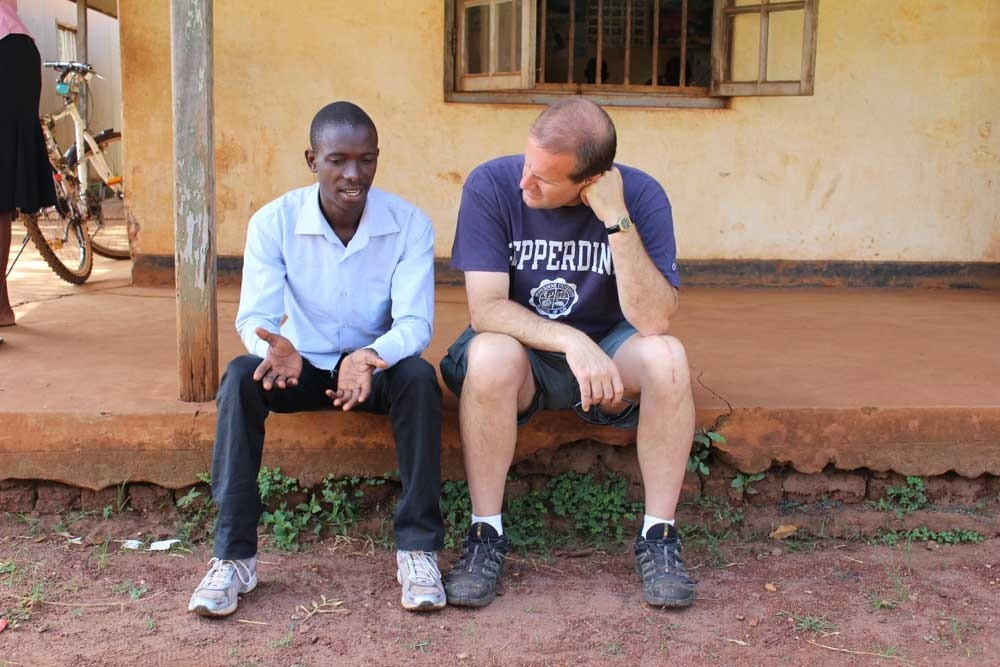face_no_mask: (521, 98, 616, 210), (304, 101, 379, 208)
